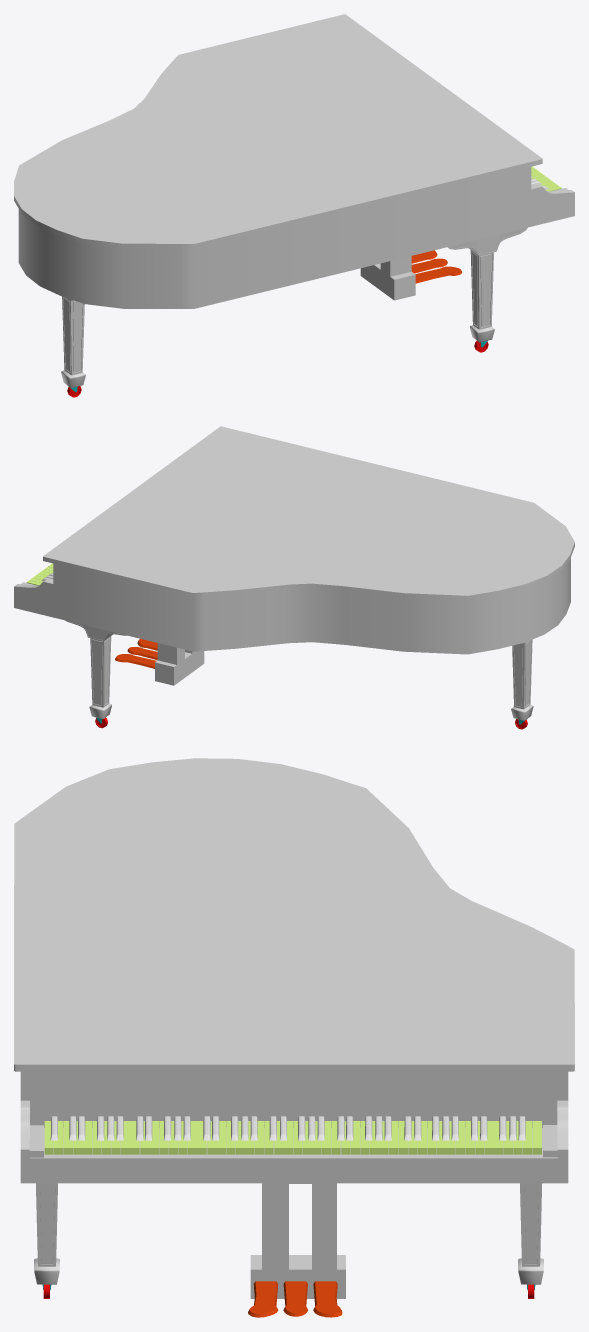
Rendered from PianoModel.FBX.
3 renders of one model, top to bottom at view 1: azimuth 30°, elevation 25°; view 2: azimuth 150°, elevation 25°; view 3: azimuth 270°, elevation 25°, orthographic. The views are drawn at different scales.
Parts seen in each view (by area): view 1: Piano, Plane004, Plane005, Box001, Plane006; view 2: Piano, Plane004, Box001, Plane005, Plane006; view 3: Piano, TastoBianco, TastoNero, Box001, Plane004, Plane006.
Part boxes in pixels (<box>): Piano: <box>14,14,574,308</box>; Plane004: <box>447,227,527,342</box>; Plane005: <box>61,296,85,387</box>; Box001: <box>360,256,415,300</box>; Plane006: <box>411,250,462,283</box>; Piano: <box>14,426,574,654</box>; Plane004: <box>65,620,126,718</box>; Box001: <box>155,643,204,685</box>; Plane005: <box>511,639,533,720</box>; Plane006: <box>115,638,157,668</box>; Piano: <box>14,758,574,1183</box>; TastoBianco: <box>44,1121,541,1154</box>; TastoNero: <box>50,1116,525,1140</box>; Box001: <box>250,1183,345,1298</box>; Plane004: <box>34,1183,543,1284</box>; Plane006: <box>248,1281,342,1317</box>.
Bounding box in the file's own units: 78.78 × 29.77 × 56.59.
